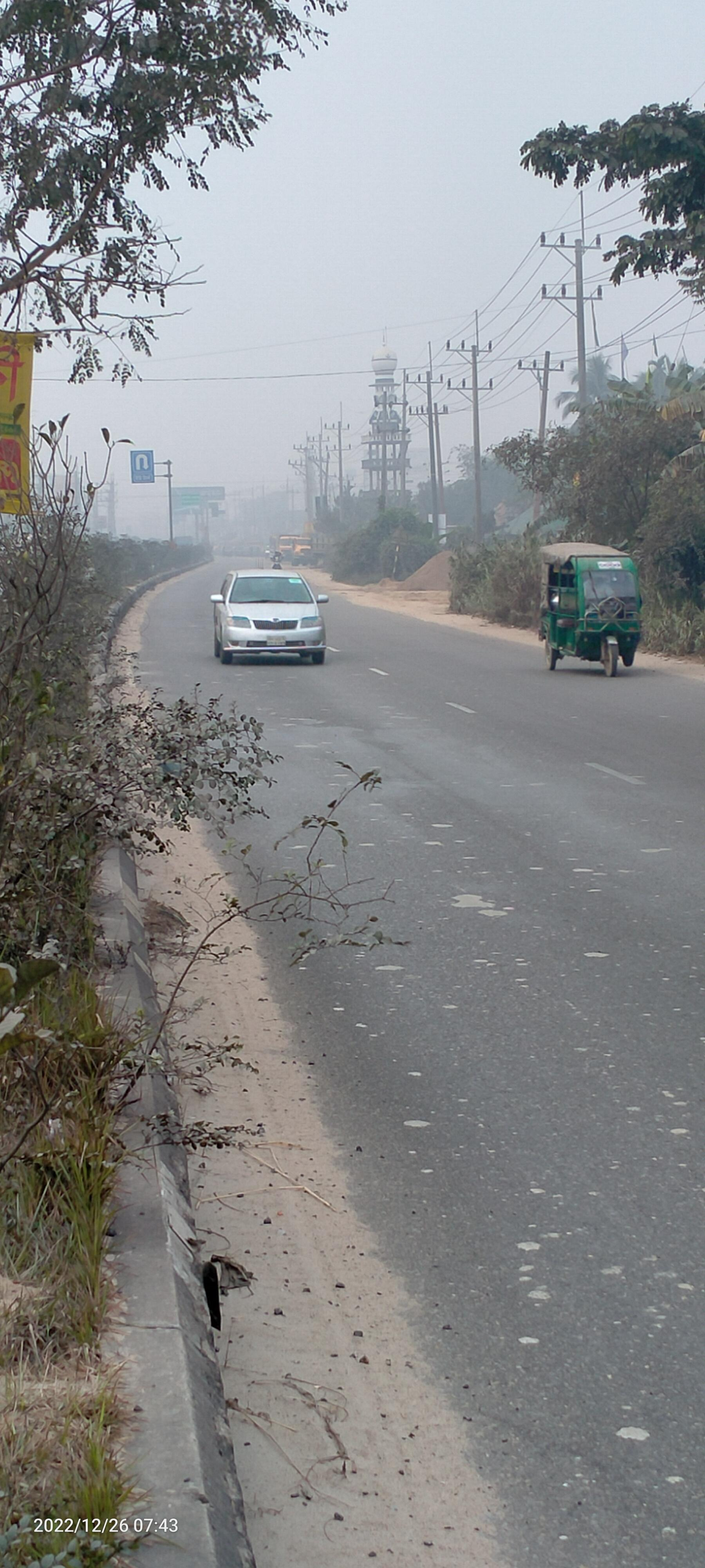Car: (543, 524, 646, 691), (204, 560, 346, 666)
